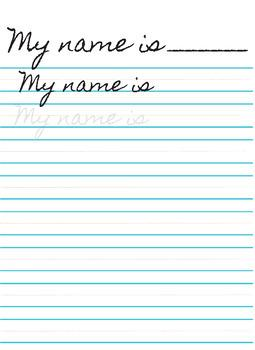text: (4, 24, 168, 72), (15, 68, 156, 109), (10, 106, 152, 140)
